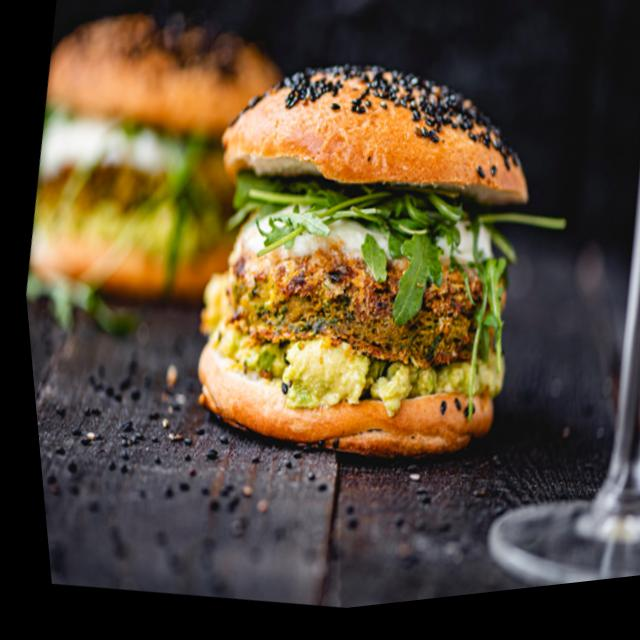burger: (152, 30, 565, 502), (1, 0, 321, 336)
